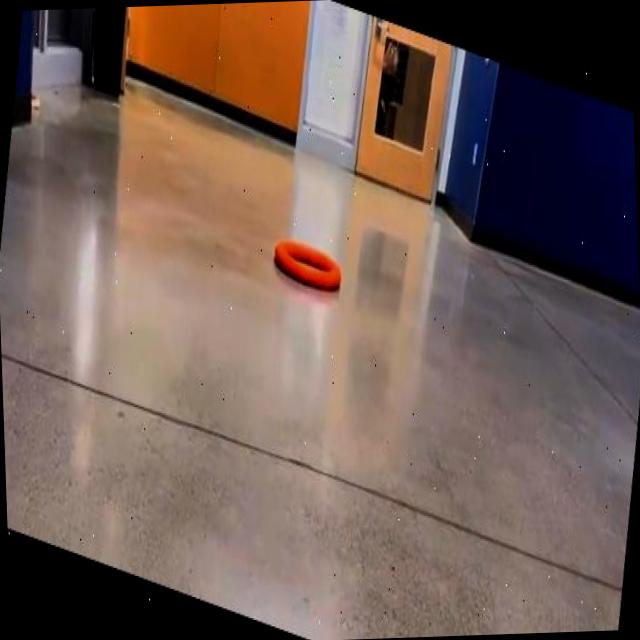note: (274, 240, 341, 288)
